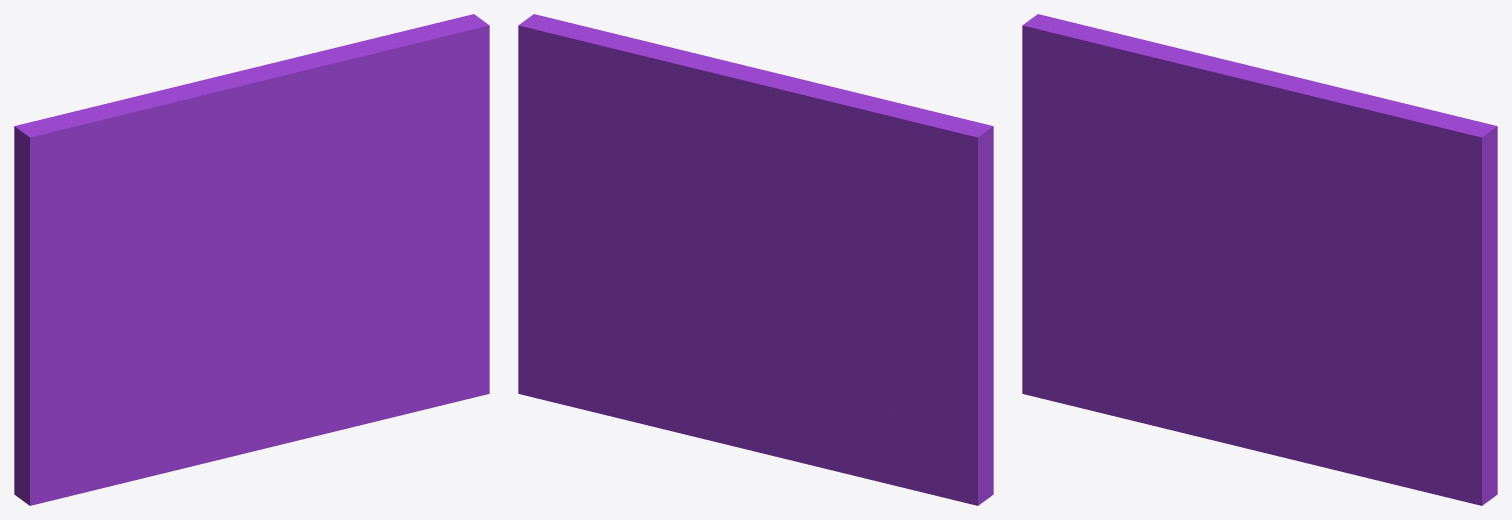
Rendered from Barrier_138_chunks.fbx.
The picture shows the model from 3 angles, left to right: view 1: azimuth 30°, elevation 25°; view 2: azimuth 150°, elevation 25°; view 3: azimuth 330°, elevation 25°; orthographic projection.
Parts seen in each view (by area): view 1: Barrier_138_1, Barrier_138_2, Barrier_138_5, Barrier_138_4, Barrier_138_6, Barrier_138_3, Barrier_138_0; view 2: Barrier_138_1, Barrier_138_2, Barrier_138_0, Barrier_138_5, Barrier_138_4, Barrier_138_6; view 3: Barrier_138_1, Barrier_138_2, Barrier_138_5, Barrier_138_4, Barrier_138_6, Barrier_138_3, Barrier_138_0.
Part boxes in pixels (<box>): Barrier_138_1: <box>267,14,489,404</box>; Barrier_138_2: <box>14,57,326,327</box>; Barrier_138_5: <box>216,289,442,448</box>; Barrier_138_4: <box>14,377,262,505</box>; Barrier_138_6: <box>14,293,199,440</box>; Barrier_138_3: <box>179,266,295,391</box>; Barrier_138_0: <box>14,233,140,402</box>; Barrier_138_1: <box>518,14,742,407</box>; Barrier_138_2: <box>697,54,993,314</box>; Barrier_138_0: <box>740,223,993,413</box>; Barrier_138_5: <box>575,277,820,453</box>; Barrier_138_4: <box>763,382,993,505</box>; Barrier_138_6: <box>788,305,993,449</box>; Barrier_138_1: <box>1259,82,1497,505</box>; Barrier_138_2: <box>1022,14,1318,269</box>; Barrier_138_5: <box>1209,306,1435,494</box>; Barrier_138_4: <box>1022,329,1254,450</box>; Barrier_138_6: <box>1022,260,1191,337</box>; Barrier_138_3: <box>1171,264,1287,369</box>; Barrier_138_0: <box>1022,215,1132,269</box>.
Bounding box in the file's own units: 376 × 288 × 22.1.
